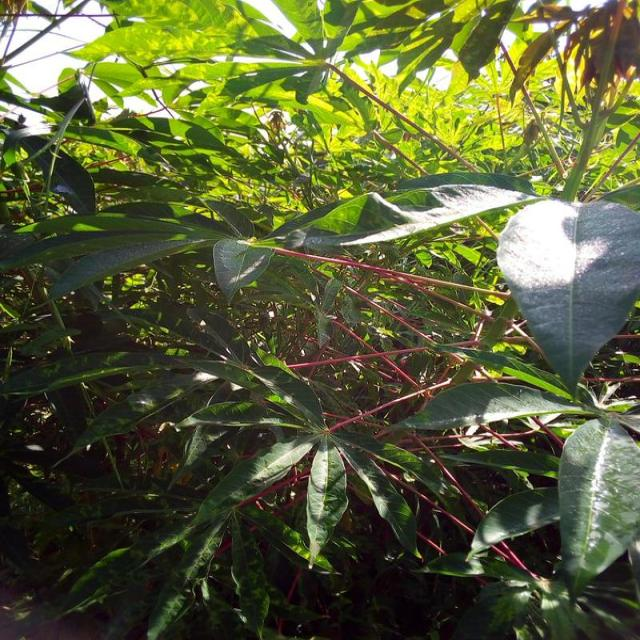cassava leaf: (496, 196, 638, 396), (556, 416, 638, 586)
